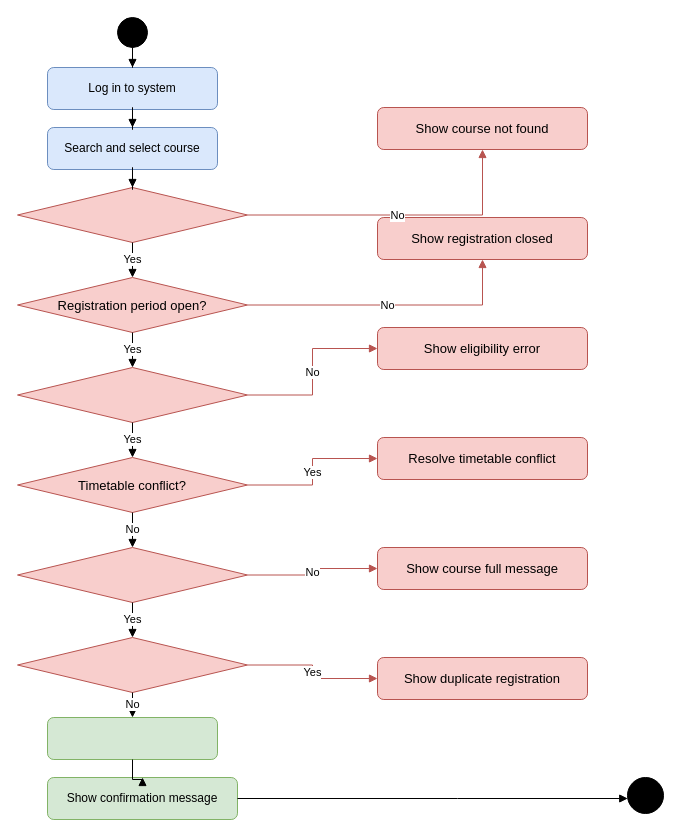
Some shapes in this 681 by 837 pixel diagram are drawn without their labels. Here are the shapes that lost their labels. From the top down, the centre of each, then its label:
[132,214]: Course exists?
[132,394]: Eligible and prerequisites met?
[132,574]: Course has capacity?
[132,664]: Duplicate registration?
[132,738]: Save registration
